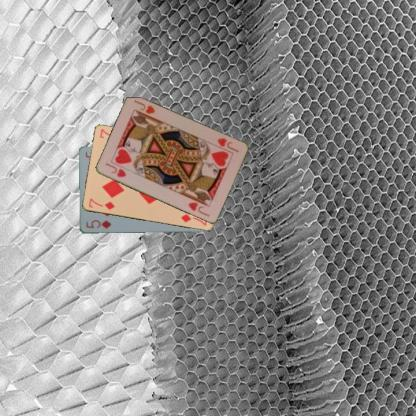5d: (83, 217, 113, 230)
7d: (86, 196, 116, 211)
Jh: (210, 135, 240, 155), (102, 160, 127, 179)
